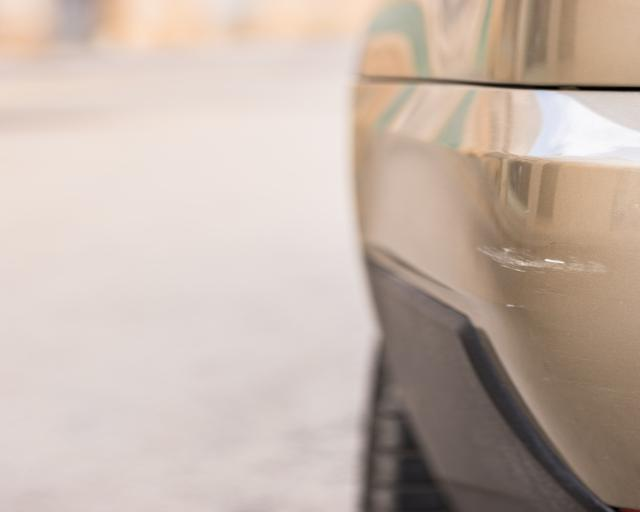scratch: (470, 243, 620, 275)
